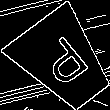P_SE: (32, 30, 95, 93)
